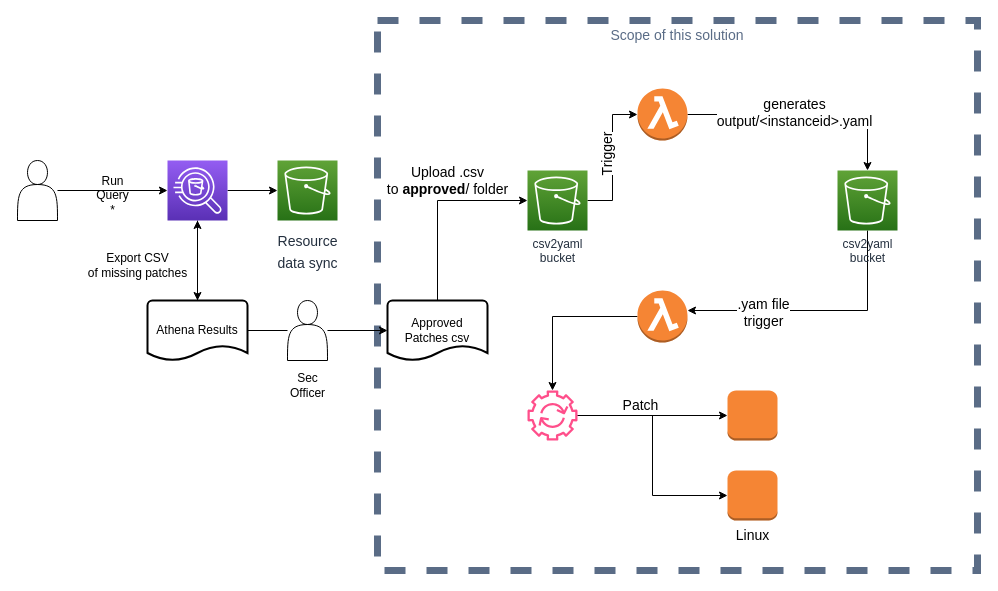
This 998x591 diagram has some shape labels left out. The centre of each missing label's shape, as x and y in pixels:
"AWS-RunPatchBaseline Override <instance>.yaml" goes at (x=552, y=415).
"patcher.py" goes at (x=662, y=316).
"transform.py" goes at (x=662, y=114).
"Windows" goes at (x=752, y=415).
